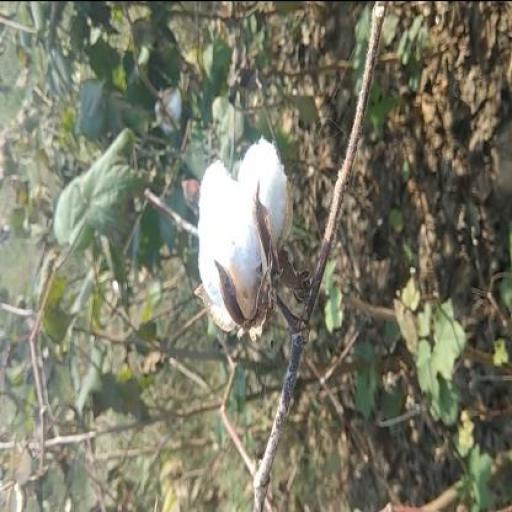cotton_ready: (188, 134, 336, 334)
